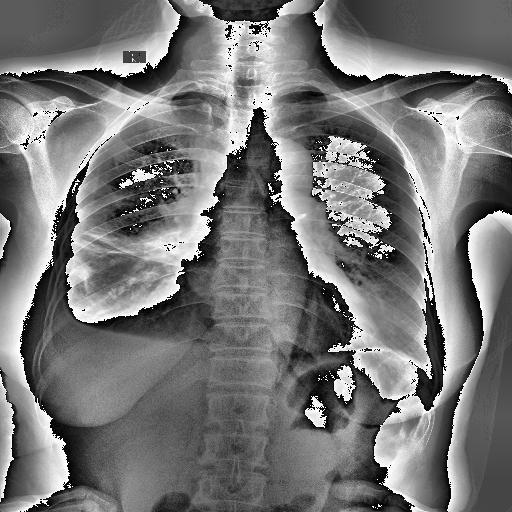0- Aortic enlargement: (250, 137, 312, 206)
10- Pleural effusion: (52, 280, 180, 360), (53, 276, 125, 356), (43, 304, 83, 354)
13- Pulmonary fibrosis: (78, 222, 182, 262), (74, 230, 178, 260)
4- Consolidation: (68, 226, 188, 284)
6- Infiltration: (65, 260, 146, 324)
